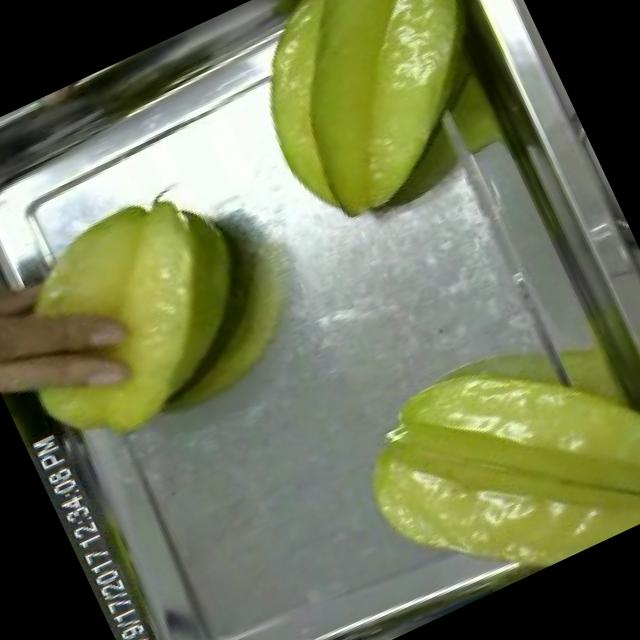fruit: (324, 285, 640, 627), (0, 159, 300, 474), (203, 0, 547, 253)
